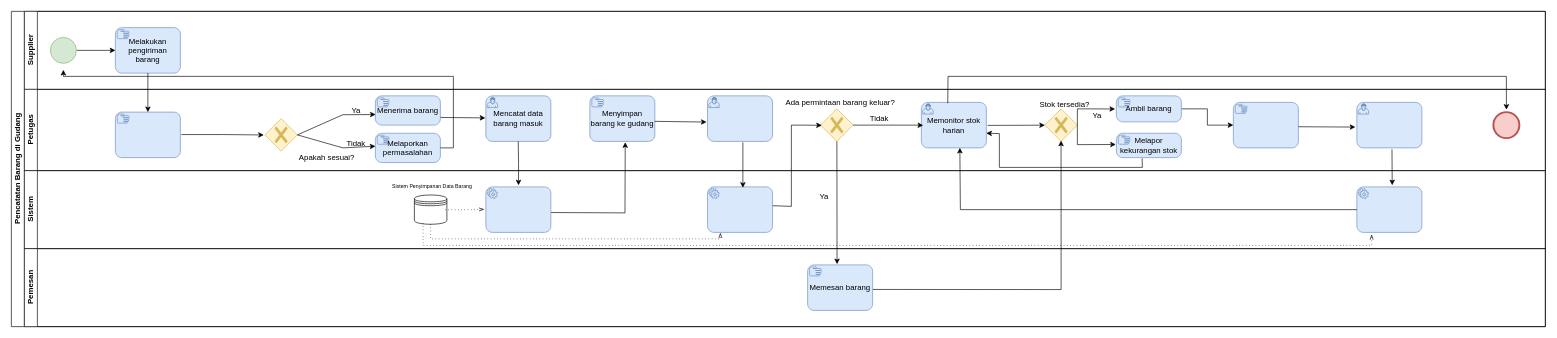
The diagram is 1557 pixels wide and 338 high, and some of its shapes have lost their labels. The centre of each missing label's shape, as x and y in pixels:
"Memeriksa jumlah dan kondisi barang" belongs at point (147, 134).
"Mencatat data barang keluar" belongs at point (1389, 125).
"Mengecek atau memverifikasi barang" belongs at point (1265, 125).
"Menginput lokasi penyimpanan barang" belongs at point (740, 118).
"Menyimpan data barang keluar" belongs at point (1389, 209).
"Menyimpan data barang masuk" belongs at point (518, 209).
"Menyimpan data lokasi penyimpanan barang" belongs at point (740, 209).
